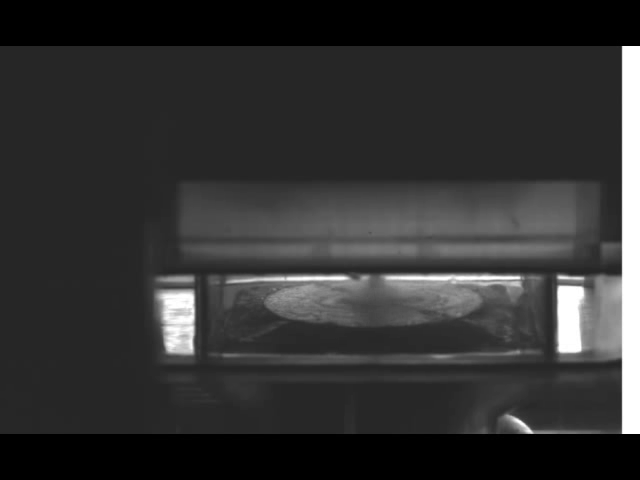Zona de teste: (261, 276, 484, 327)
